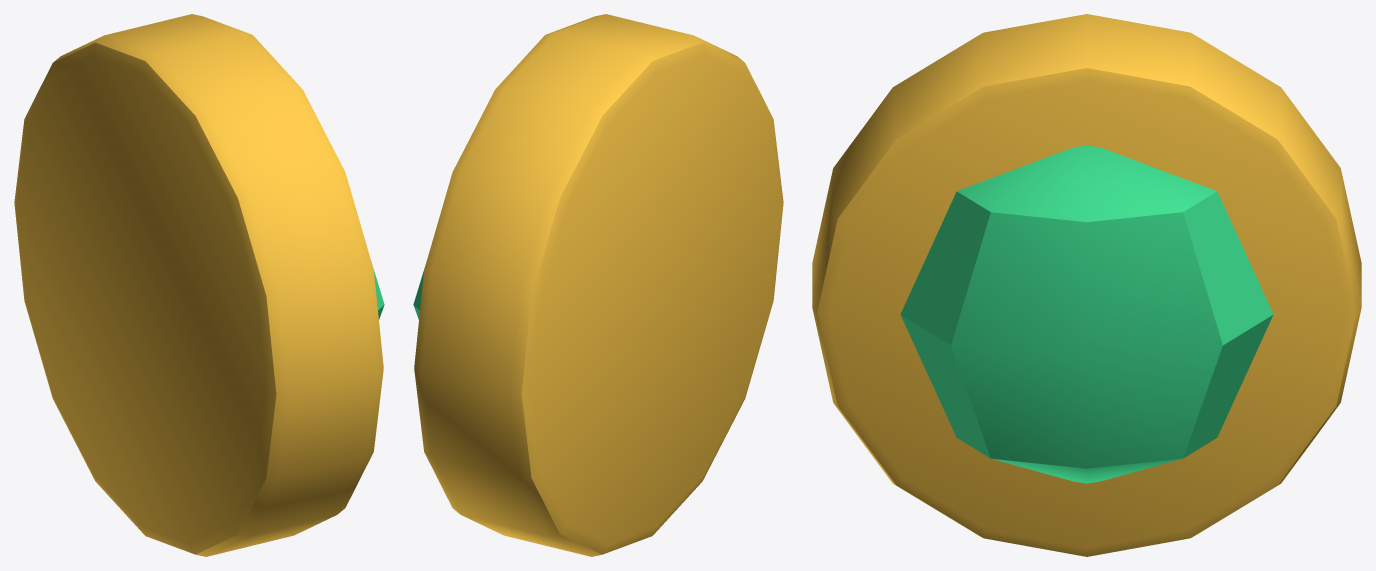
Rendered from PlazaGem.fbx.
The picture shows the model from 3 angles, left to right: view 1: azimuth 30°, elevation 25°; view 2: azimuth 150°, elevation 25°; view 3: azimuth 270°, elevation 25°; orthographic projection. The views are drawn at different scales.
Parts seen in each view (by area): view 1: PlazaGem; view 2: PlazaGem; view 3: PlazaGem.
Boxes of the visible parts, x1=… form: PlazaGem: x1=14, y1=14, x2=384, y2=556; PlazaGem: x1=413, y1=14, x2=783, y2=556; PlazaGem: x1=812, y1=14, x2=1361, y2=556.
Bounding box in the file's own units: 44.5 × 100 × 100.
